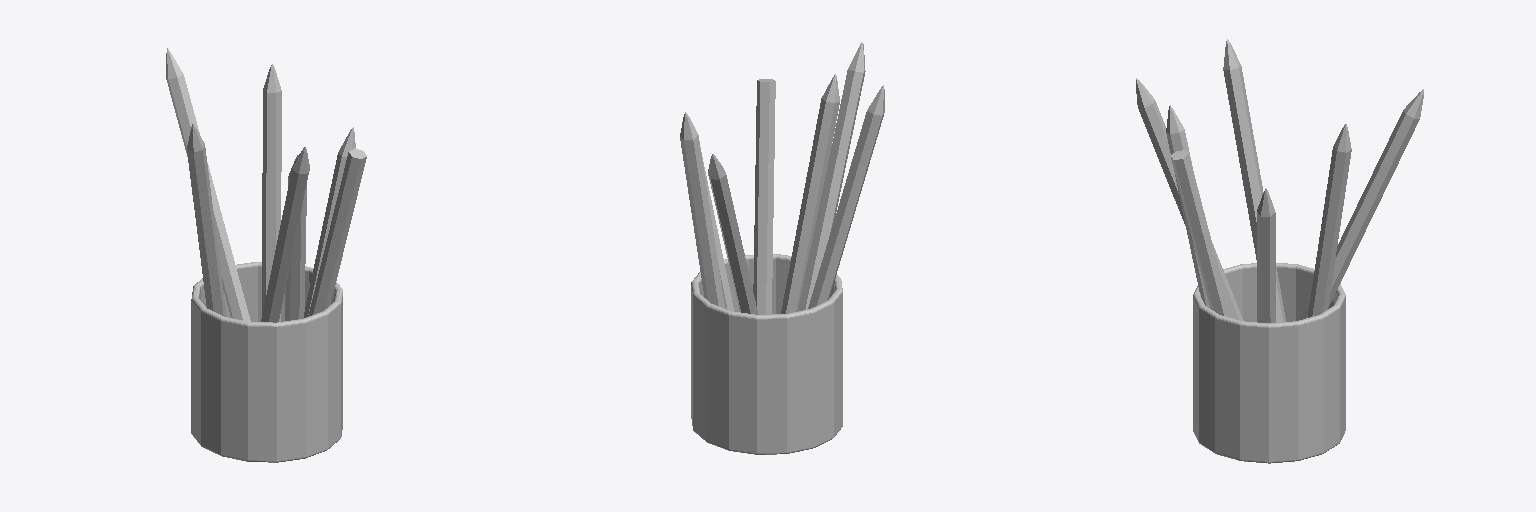
Rendered from pens.obj.
3 views of the same model, side by side, from view 1: azimuth 30°, elevation 25°; view 2: azimuth 150°, elevation 25°; view 3: azimuth 270°, elevation 25° (orthographic).
Parts seen in each view (by area): view 1: Penholder.001; view 2: Penholder.001; view 3: Penholder.001.
Boxes of the visible parts, <box> form: Penholder.001: <box>166,48,366,462</box>; Penholder.001: <box>680,42,884,454</box>; Penholder.001: <box>1136,39,1423,463</box>.
Size of the model in its own units: 13.67 by 24.65 by 18.62.